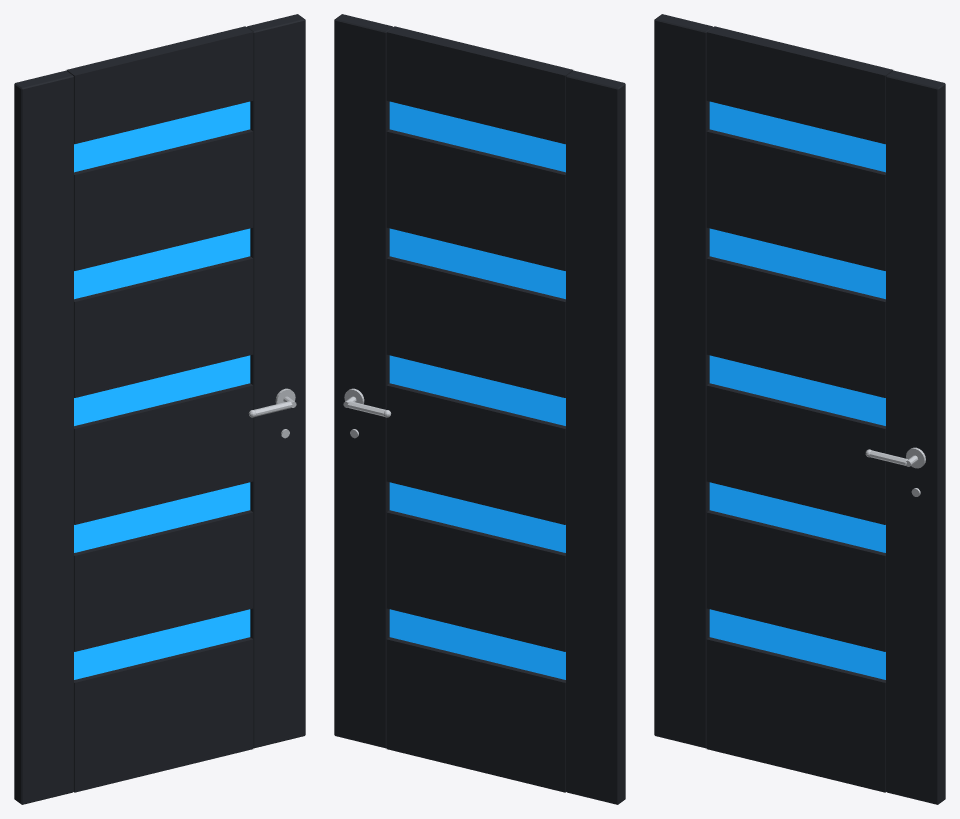
File: porta_frisos_vidro_preta.glb
The picture shows the model from 3 angles, left to right: view 1: azimuth 30°, elevation 25°; view 2: azimuth 150°, elevation 25°; view 3: azimuth 330°, elevation 25°; orthographic projection.
Visible parts, largest first — view 1: porta_frisos_vidro_preta; view 2: porta_frisos_vidro_preta; view 3: porta_frisos_vidro_preta.
Boxes of the visible parts, bbox=[...] form: porta_frisos_vidro_preta: bbox=[14, 14, 305, 804]; porta_frisos_vidro_preta: bbox=[334, 14, 625, 804]; porta_frisos_vidro_preta: bbox=[654, 14, 945, 804].
Bounding box in the file's own units: 0.86 × 2.07 × 0.143.
